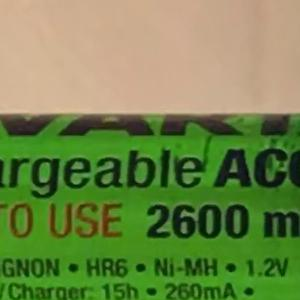NI-MH: (144, 247, 228, 287)
